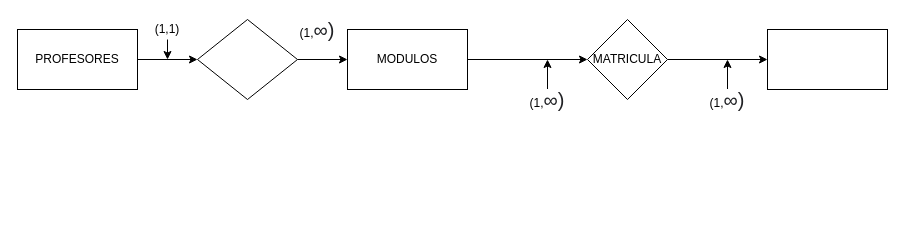
The diagram is 905 pixels wide and 235 high, and some of its shapes have lost their labels. Each missing label, with the box of its shape:
ALUMNOS: (766, 28, 888, 90)
IMPARTEN: (196, 18, 298, 100)
